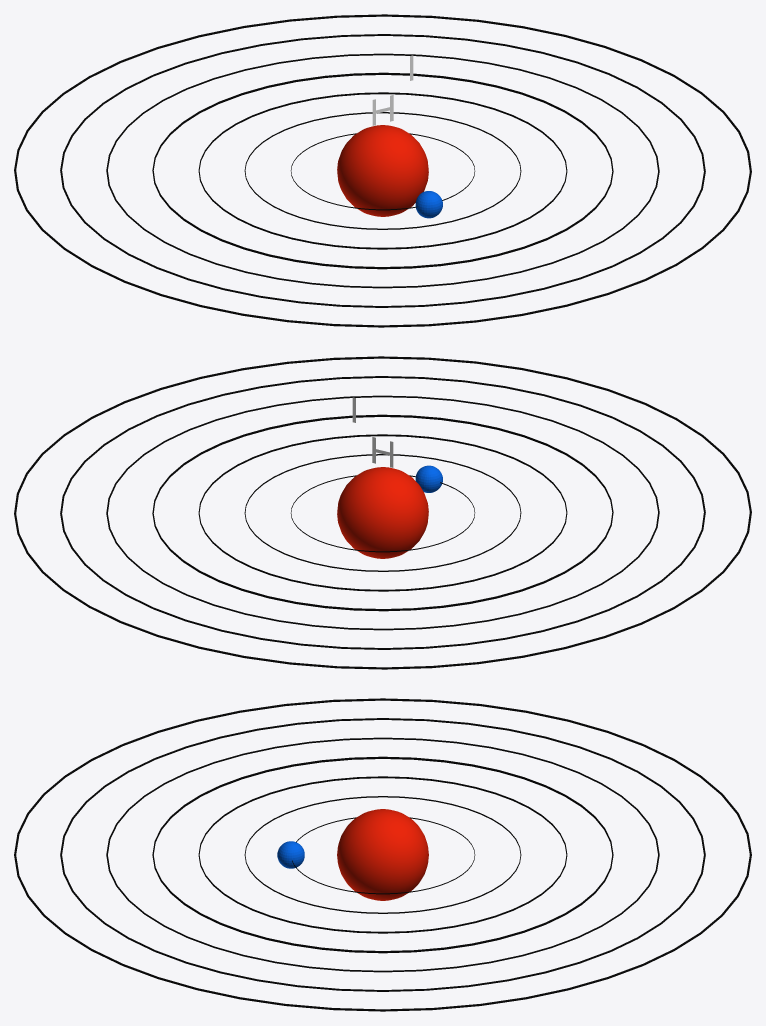
3 renders of one model, top to bottom at view 1: azimuth 30°, elevation 25°; view 2: azimuth 150°, elevation 25°; view 3: azimuth 270°, elevation 25°, orthographic.
Visible parts, largest first — view 1: Proton, n7, n6, n5, n4, n3, n2, H1, n1; view 2: Proton, n7, n6, n5, n4, n3, n2, H1, n1; view 3: Proton, n7, n6, n5, n4, n3, n2, H1, n1.
Boxes of the visible parts, bbox=[...] form: Proton: bbox=[337, 125, 428, 216]; n7: bbox=[14, 14, 751, 327]; n6: bbox=[60, 34, 705, 307]; n5: bbox=[106, 53, 659, 288]; n4: bbox=[152, 72, 613, 269]; n3: bbox=[198, 92, 567, 249]; n2: bbox=[244, 112, 521, 229]; H1: bbox=[415, 191, 442, 218]; n1: bbox=[290, 133, 475, 210]; Proton: bbox=[337, 467, 428, 558]; n7: bbox=[14, 356, 751, 669]; n6: bbox=[60, 376, 705, 649]; n5: bbox=[106, 395, 659, 630]; n4: bbox=[152, 414, 613, 611]; n3: bbox=[198, 434, 567, 591]; n2: bbox=[244, 454, 521, 571]; H1: bbox=[415, 465, 442, 492]; n1: bbox=[290, 475, 475, 552]; Proton: bbox=[337, 809, 428, 900]; n7: bbox=[14, 698, 751, 1011]; n6: bbox=[60, 718, 705, 991]; n5: bbox=[106, 737, 659, 972]; n4: bbox=[152, 756, 613, 953]; n3: bbox=[198, 776, 567, 933]; n2: bbox=[244, 796, 521, 913]; H1: bbox=[277, 841, 304, 868]; n1: bbox=[292, 817, 475, 894].
Bounding box in the file's own units: 802 × 180 × 802.
